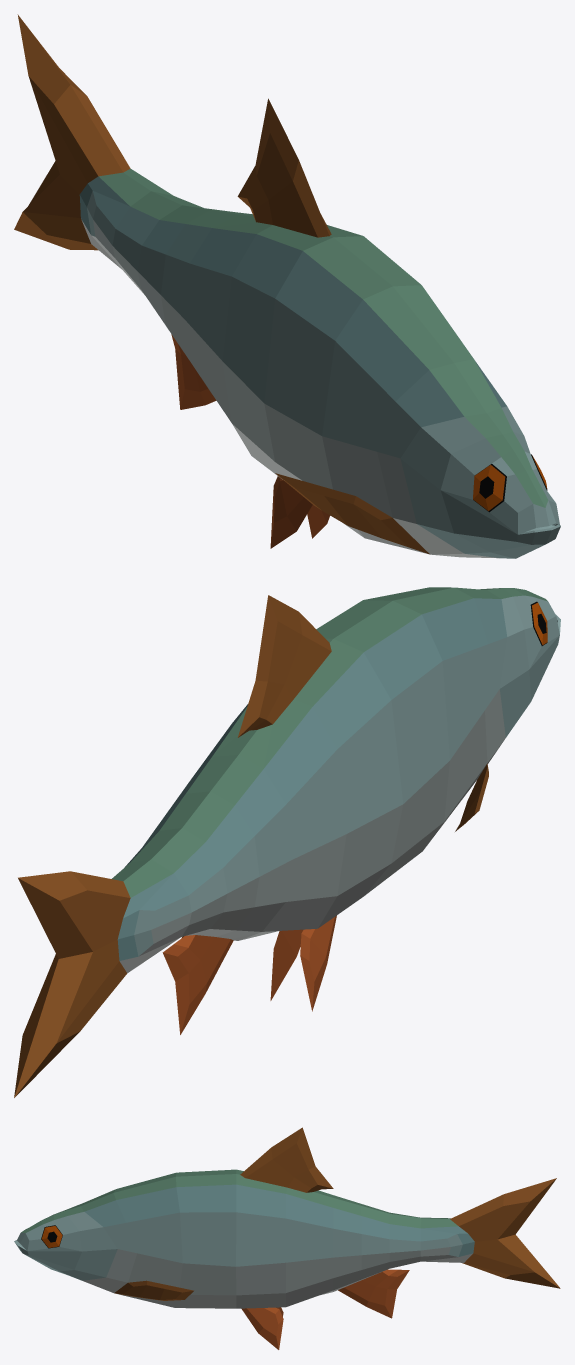
The model's file is kuoja.glb.
The picture shows the model from 3 angles, top to bottom: view 1: azimuth 30°, elevation 25°; view 2: azimuth 150°, elevation 25°; view 3: azimuth 270°, elevation 25°; orthographic projection. The views are drawn at different scales.
Visible parts, largest first — view 1: Kuoja; view 2: Kuoja; view 3: Kuoja.
Boxes of the visible parts, x1,y1,x2,y2 form: Kuoja: [14, 14, 560, 558]; Kuoja: [14, 587, 560, 1097]; Kuoja: [14, 1127, 560, 1349].
Size of the model in its own units: 0.0535 by 0.1098 by 0.2497.
